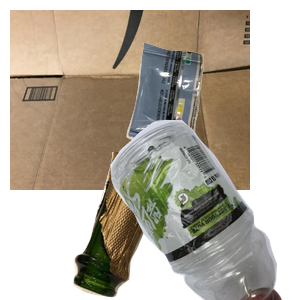cardboard: (10, 10, 250, 190)
glass: (71, 152, 260, 300)
plastic: (73, 120, 300, 300)
trash: (124, 40, 300, 188)
